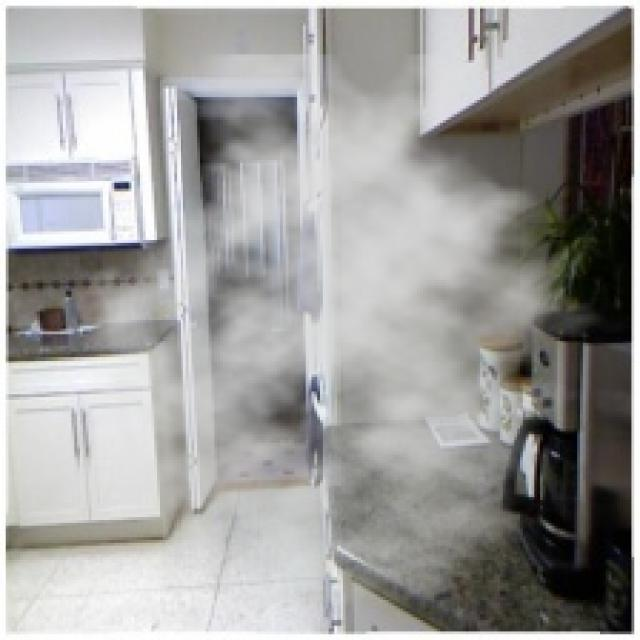Smoke: (62, 54, 628, 609)
